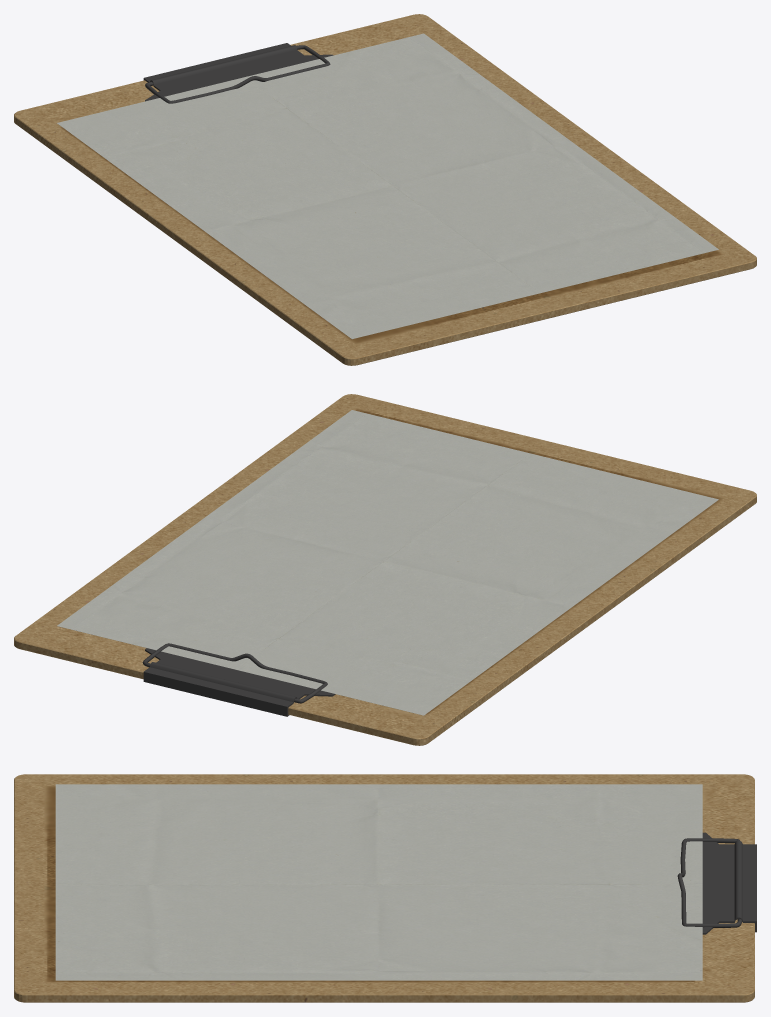
File: clip_board.glb
The picture shows the model from 3 angles, top to bottom: view 1: azimuth 30°, elevation 25°; view 2: azimuth 150°, elevation 25°; view 3: azimuth 270°, elevation 25°; orthographic projection. The views are drawn at different scales.
Visible parts, largest first — view 1: page, board_1, Sweep; view 2: page, board_1, Sweep; view 3: page, board_1, Sweep.
Boxes of the visible parts, left/top/right/bottom form: page: left=57, top=33, right=718, bottom=339; board_1: left=14, top=14, right=756, bottom=365; Sweep: left=143, top=43, right=333, bottom=103; page: left=57, top=410, right=718, bottom=715; board_1: left=14, top=394, right=756, bottom=745; Sweep: left=142, top=643, right=335, bottom=716; page: left=55, top=784, right=702, bottom=980; board_1: left=14, top=774, right=754, bottom=1002; Sweep: left=677, top=832, right=756, bottom=934.
Bounding box in the file's own units: 26.74 × 1.17 × 38.01.
Materials: 3 (2 with a texture image).
